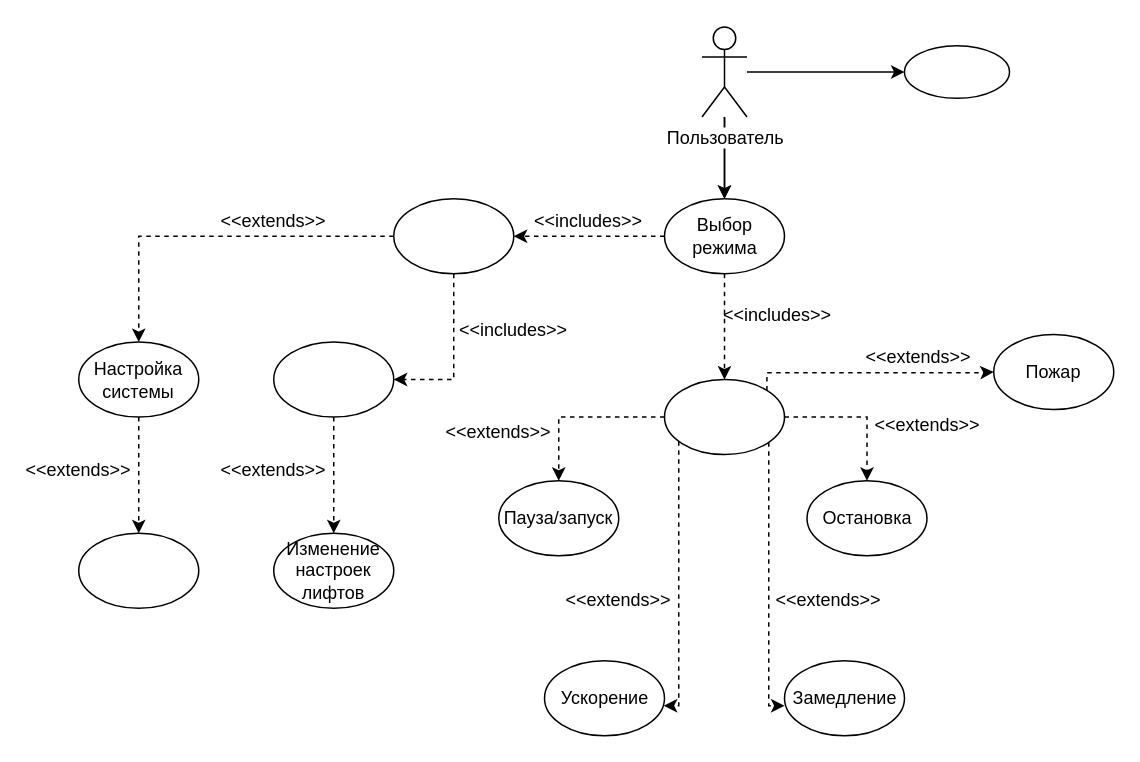
The diagram is 1140 pixels wide and 762 high, and some of its shapes have lost their labels. The box of each missing label's shape, as (x1, y1, x2, y2) in pixels:
Ввод данных: (392, 197, 514, 274)
Изменение настроек системы: (77, 532, 199, 608)
Настройка лифтов: (272, 340, 394, 417)
Создать человека: (903, 44, 1010, 98)
Старт: (663, 378, 784, 454)
